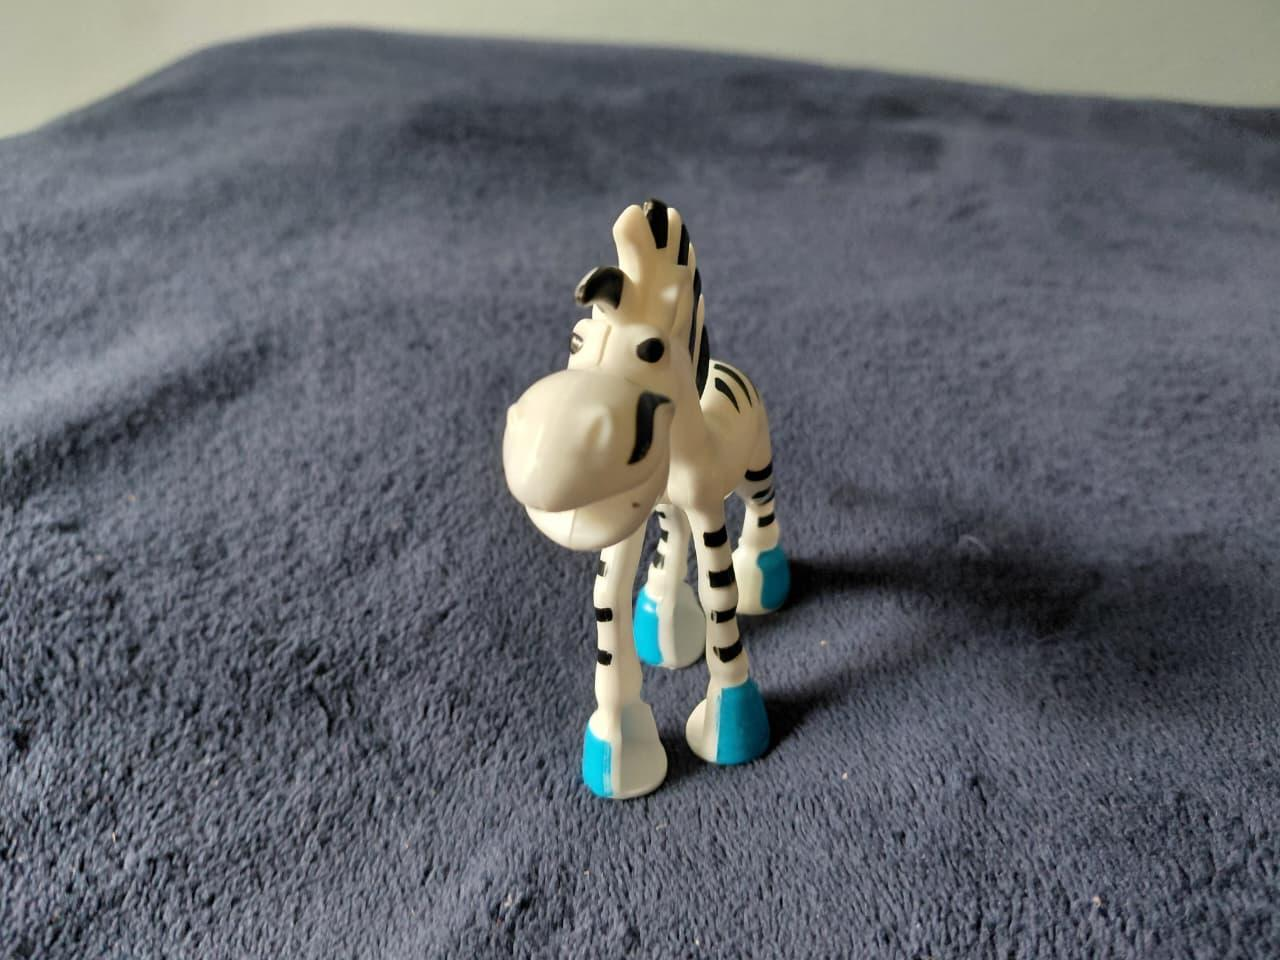zebra: (502, 166, 809, 804)
